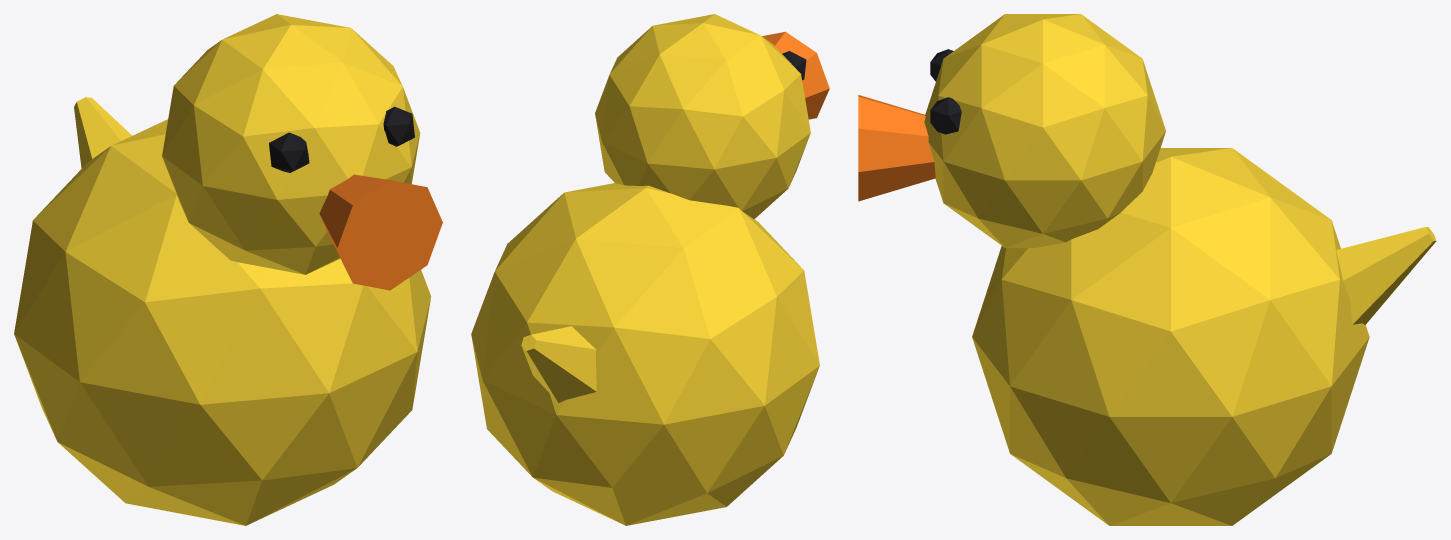
The model's file is Decoy.obj.
3 renders of one model, left to right at view 1: azimuth 30°, elevation 25°; view 2: azimuth 150°, elevation 25°; view 3: azimuth 270°, elevation 25°, orthographic. The views are drawn at different scales.
Parts seen in each view (by area): view 1: Decoy; view 2: Decoy; view 3: Decoy.
Part boxes in pixels (left/top/right/bottom): Decoy: left=14, top=14, right=442, bottom=525; Decoy: left=471, top=14, right=829, bottom=525; Decoy: left=858, top=14, right=1436, bottom=525.
Bounding box in the file's own units: 0.7989 × 1.16 × 1.22.
